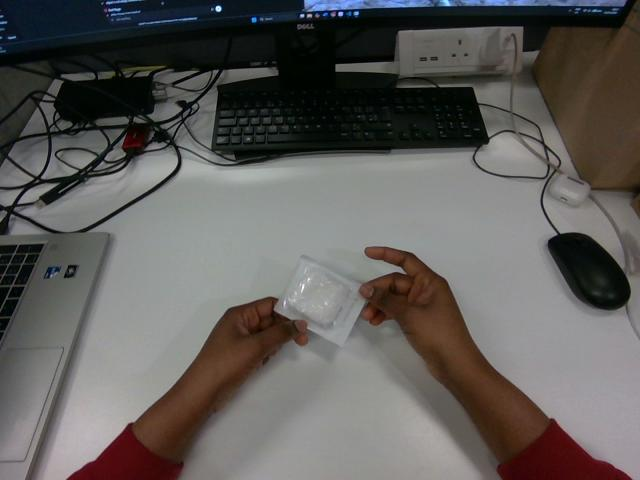gauze: (274, 256, 365, 345)
